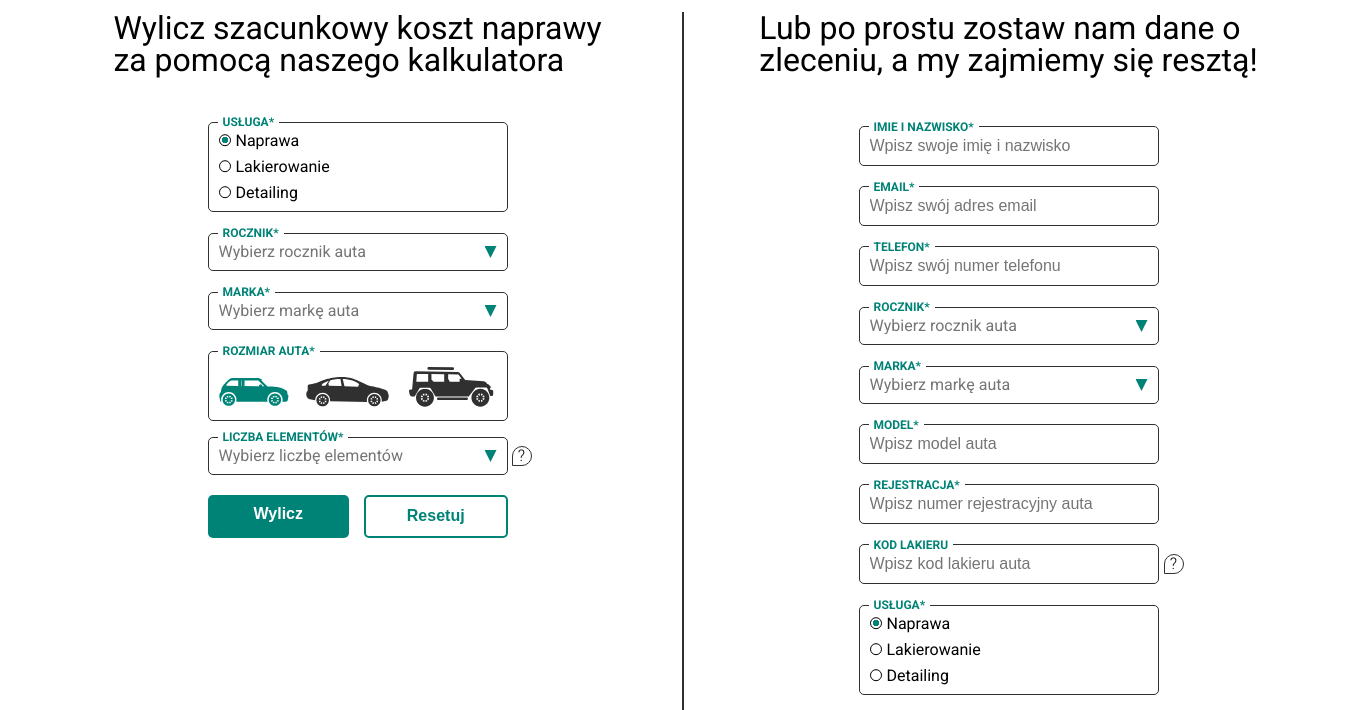
Scenario: NewOrderPage › Should render a select for choosing correction type when "Detailing" order type is selected
What coordinates should you click on to do the following:
click the text "Detailing" below "za pomocą naszego kalkulatora"
I would click on:
 (267, 192)
Its box is x1=236 y1=183 x2=298 y2=202.
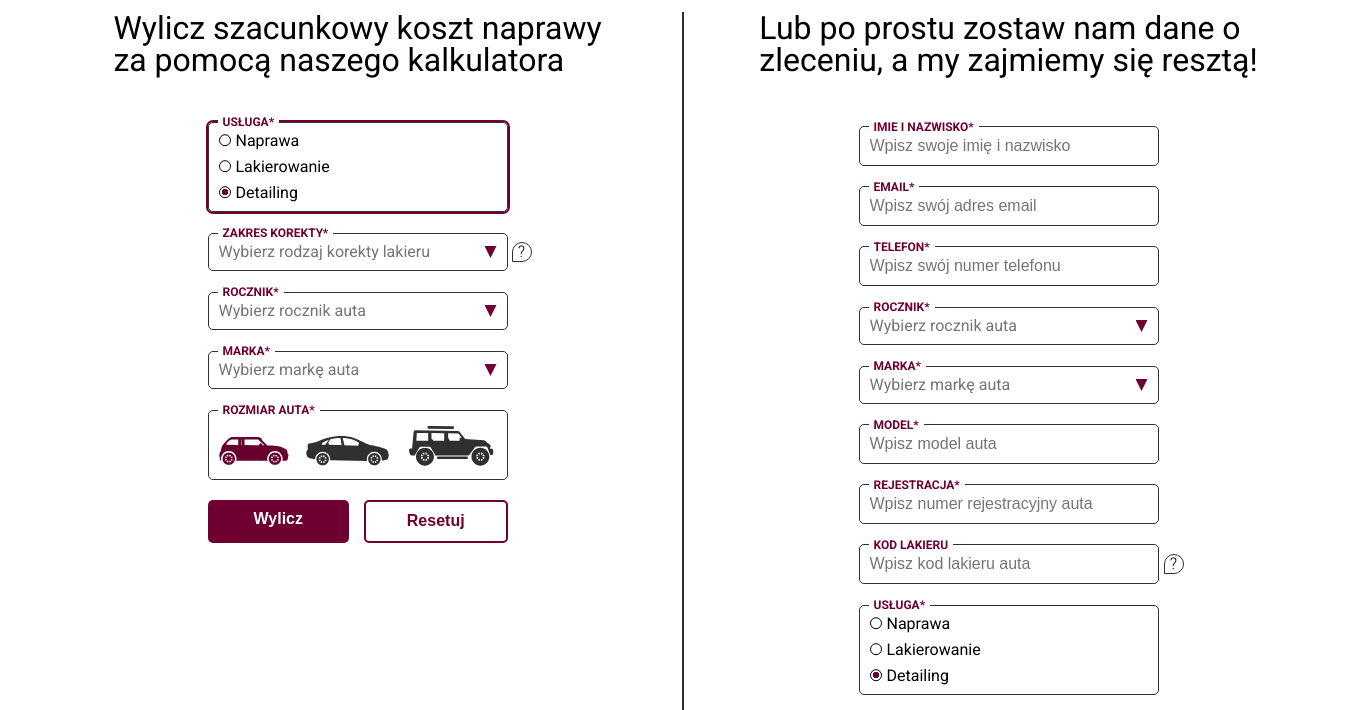
Result: the dropdown labelled "ZAKRES KOREKTY*" is shown at x1=218 y1=244 x2=496 y2=260
